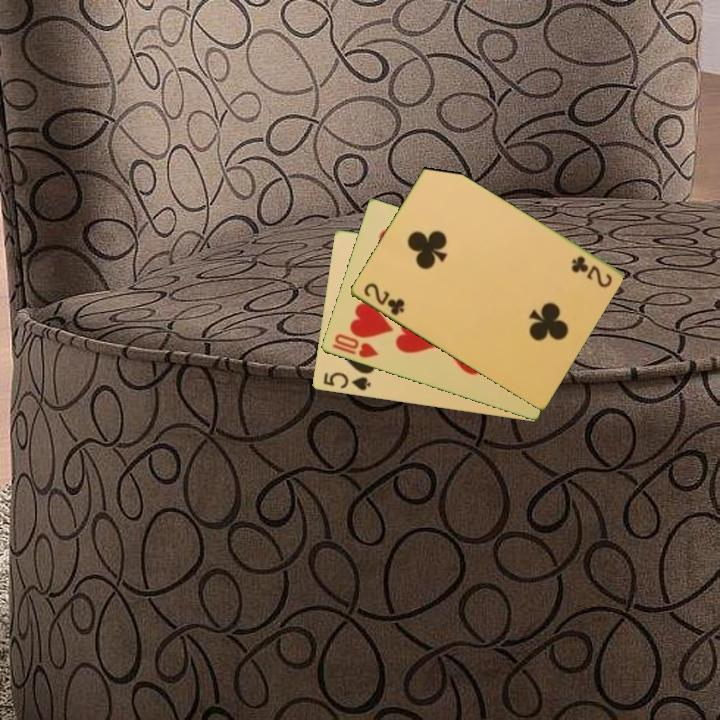10h: (328, 330, 381, 361)
2c: (360, 279, 407, 319), (567, 252, 615, 291)
5s: (319, 369, 373, 394)
